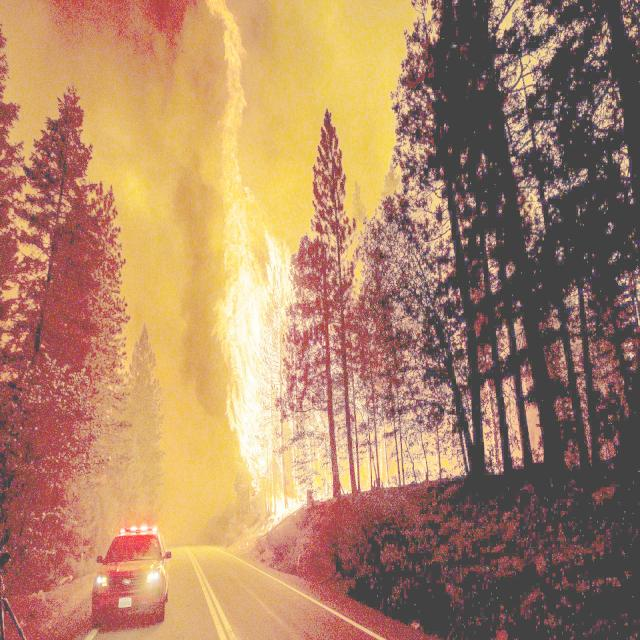api: (214, 2, 304, 531)
